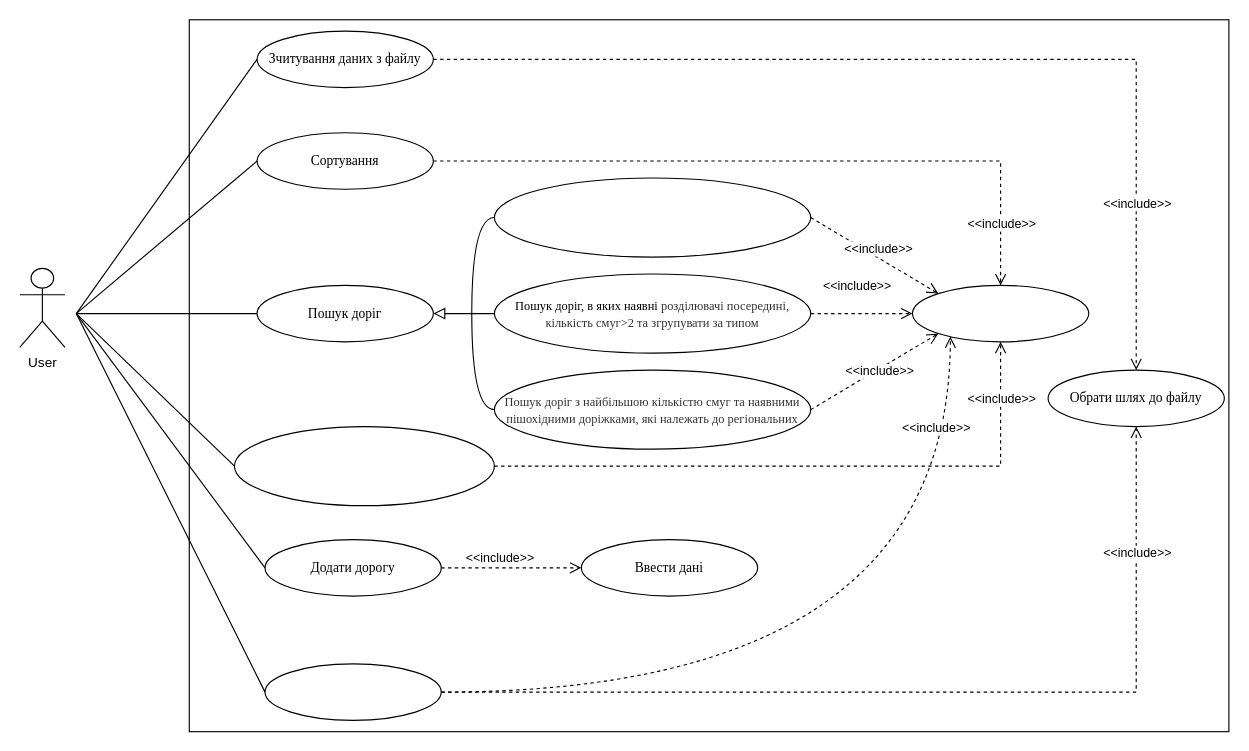
Some shapes in this 1249 by 751 pixel diagram are drawn without their labels. Each missing label, with the box of its shape:
Додати дороги до списку: (911, 284, 1089, 342)
Запис даних у файл: (264, 663, 441, 720)
Пошук найкоротшої дороги, де найбільша кількість смуг: (493, 177, 811, 257)
Пошук типів доріг з найбільшою протяжністю та наявністю пішохідних доріжок: (233, 425, 494, 506)
